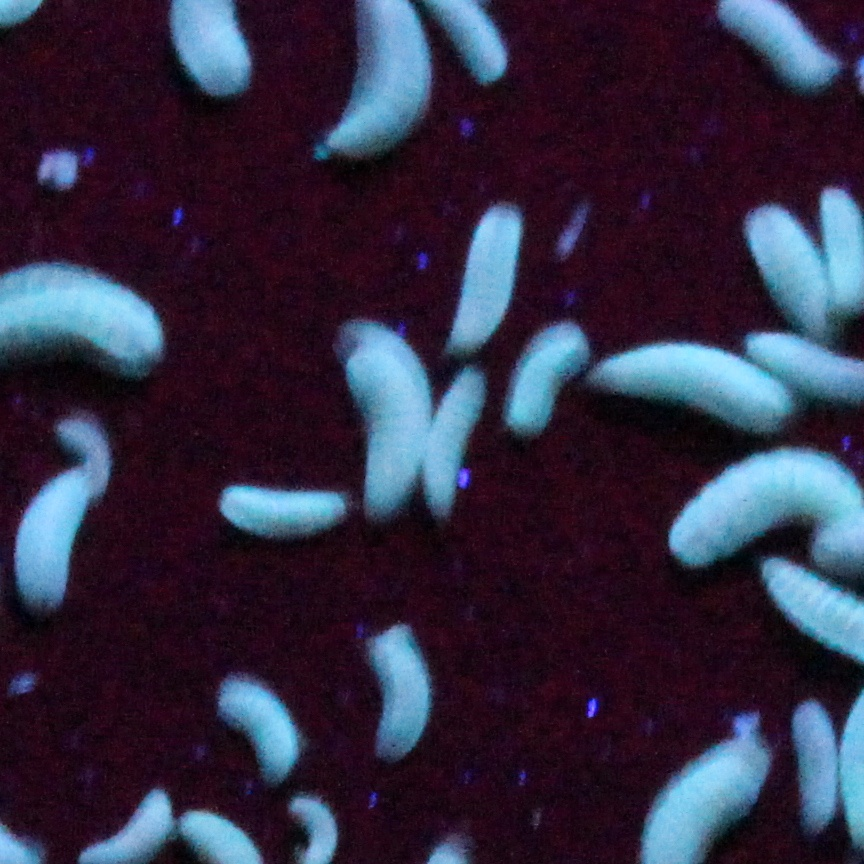larve: (590, 340, 799, 435), (336, 329, 430, 519), (738, 202, 836, 340), (422, 367, 492, 525), (447, 204, 519, 354), (213, 681, 307, 779), (501, 323, 586, 431), (22, 471, 86, 606), (788, 696, 842, 833), (376, 625, 430, 758), (222, 483, 347, 533)
